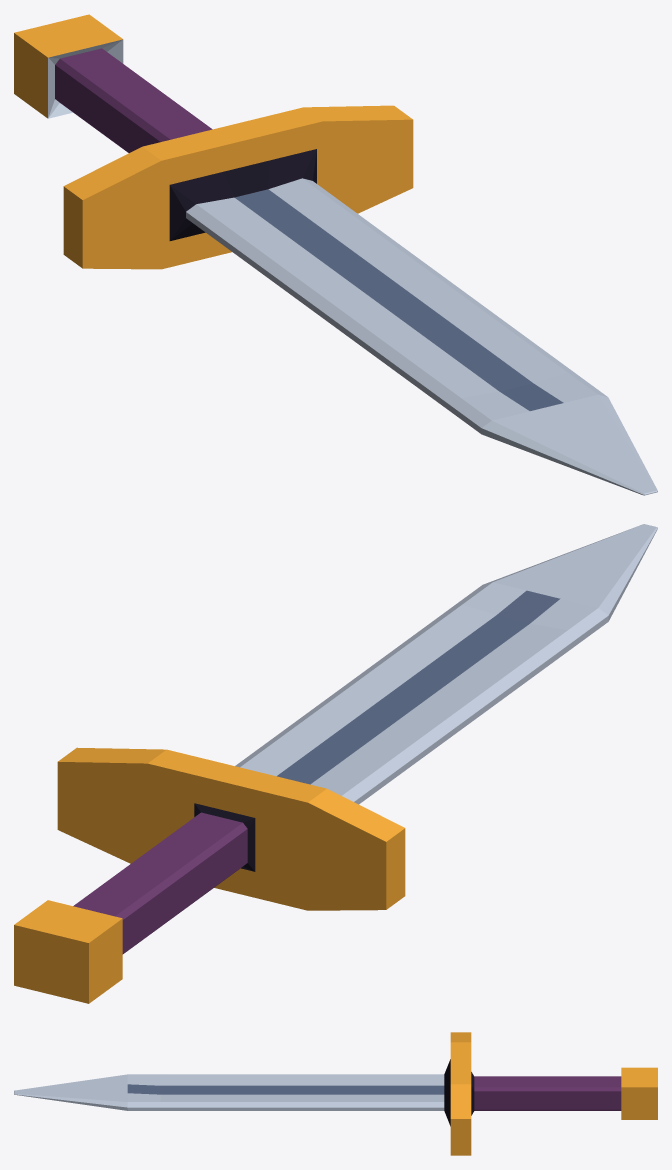
Rendered from dagger.glb.
The picture shows the model from 3 angles, top to bottom: view 1: azimuth 30°, elevation 25°; view 2: azimuth 150°, elevation 25°; view 3: azimuth 270°, elevation 25°; orthographic projection. The views are drawn at different scales.
Parts seen in each view (by area): view 1: Cube; view 2: Cube; view 3: Cube.
Part boxes in pixels (left/top/right/bottom): Cube: left=14, top=14, right=657, bottom=495; Cube: left=14, top=524, right=657, bottom=1003; Cube: left=14, top=1032, right=657, bottom=1155.
Bounding box in the file's own units: 2 × 0.6285 × 6.3.
Materials: 1 (1 with a texture image).
